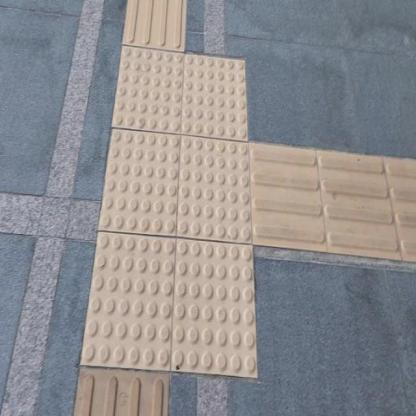podotacti: (66, 23, 301, 400), (254, 138, 416, 249), (73, 366, 167, 416), (125, 0, 189, 52)
